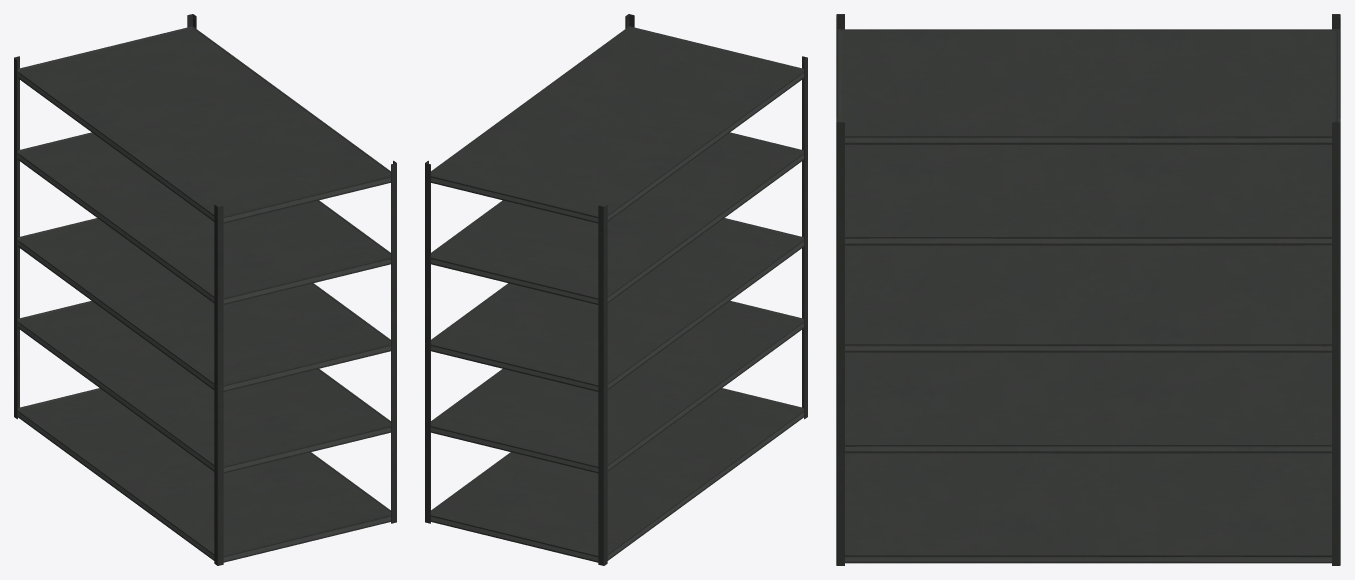
File: sr_storage_shelf_basic_a01.glb
The picture shows the model from 3 angles, left to right: view 1: azimuth 30°, elevation 25°; view 2: azimuth 150°, elevation 25°; view 3: azimuth 270°, elevation 25°; orthographic projection. The views are drawn at different scales.
Parts seen in each view (by area): view 1: body_01_mesh_00_1; view 2: body_01_mesh_00_1; view 3: body_01_mesh_00_1.
Boxes of the visible parts, left/top/right/bottom form: body_01_mesh_00_1: left=14, top=14, right=396, bottom=565; body_01_mesh_00_1: left=425, top=14, right=807, bottom=565; body_01_mesh_00_1: left=836, top=14, right=1340, bottom=565.
Bounding box in the file's own units: 1.27 × 2.42 × 2.49.
Materials: 1 (1 with a texture image).
